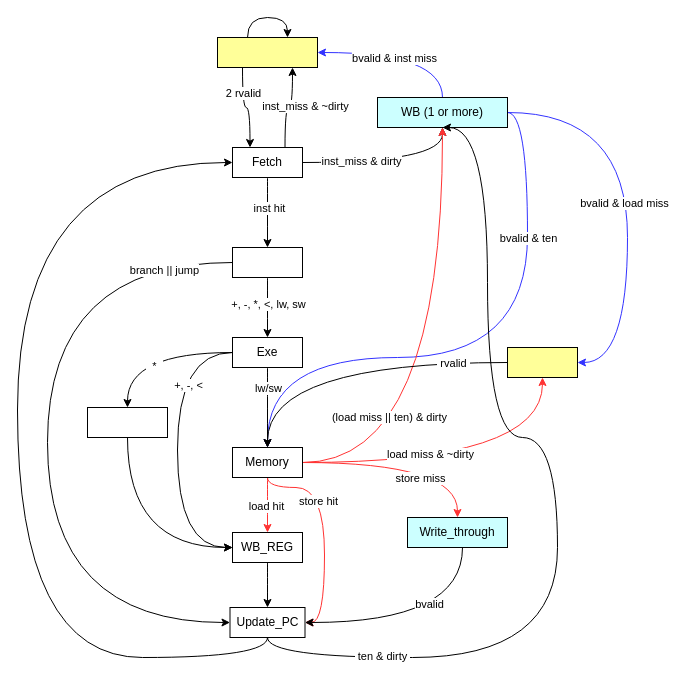
This 686x680 diagram has some shape labels left out. Here are the shapes that lost their labels. From the top down, the centre of each, then its label:
At [267,52]: "Read_inst_data".
At [267,262]: "Decode".
At [542,362]: "Read_data".
At [127,422]: "Mult_delay".
